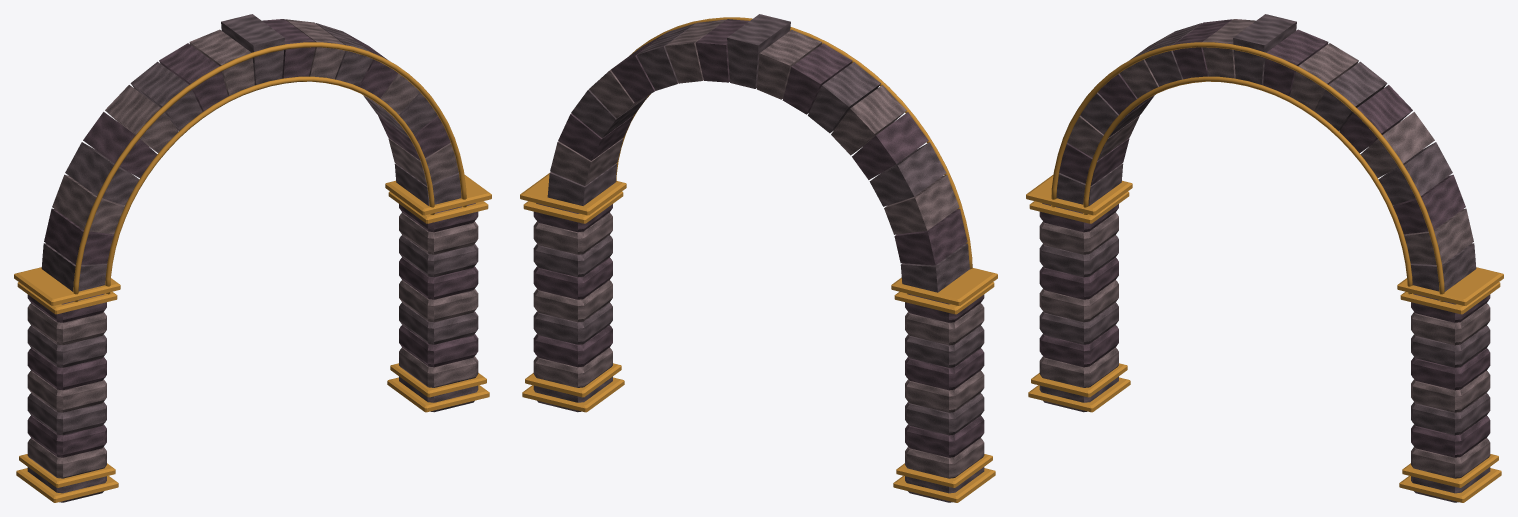
Rendered from gunners-arch.glb.
The picture shows the model from 3 angles, left to right: view 1: azimuth 30°, elevation 25°; view 2: azimuth 150°, elevation 25°; view 3: azimuth 330°, elevation 25°; orthographic projection.
Parts seen in each view (by area): view 1: gunners-arch · Sandstone 1, gunners-arch · Sandstone 0, gunners-arch · Sandstone 2, gunners-arch · Antique brass; view 2: gunners-arch · Sandstone 1, gunners-arch · Sandstone 0, gunners-arch · Sandstone 2, gunners-arch · Antique brass; view 3: gunners-arch · Sandstone 1, gunners-arch · Sandstone 0, gunners-arch · Sandstone 2, gunners-arch · Antique brass.
Boxes of the visible parts, box(x1,y1,x2,y2) form: gunners-arch · Sandstone 1: box(27, 19, 478, 478); gunners-arch · Sandstone 0: box(27, 14, 478, 502); gunners-arch · Sandstone 2: box(27, 19, 478, 457); gunners-arch · Antique brass: box(14, 42, 491, 502); gunners-arch · Sandstone 1: box(533, 19, 984, 478); gunners-arch · Sandstone 0: box(533, 14, 984, 502); gunners-arch · Sandstone 2: box(533, 19, 984, 457); gunners-arch · Antique brass: box(520, 17, 997, 502); gunners-arch · Sandstone 1: box(1039, 19, 1490, 478); gunners-arch · Sandstone 0: box(1039, 14, 1490, 502); gunners-arch · Sandstone 2: box(1039, 19, 1490, 457); gunners-arch · Antique brass: box(1026, 42, 1503, 502).
Bounding box in the file's own units: 10.04 × 8.97 × 1.53.
Materials: 4 (3 with a texture image).
